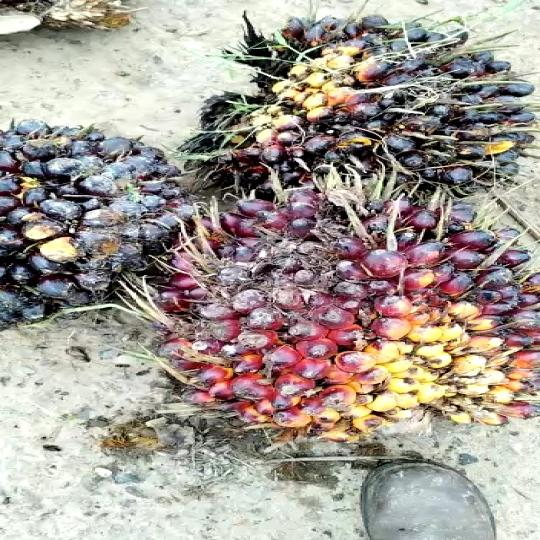kurang masak: (135, 178, 540, 444), (179, 0, 540, 201), (0, 93, 221, 335)
